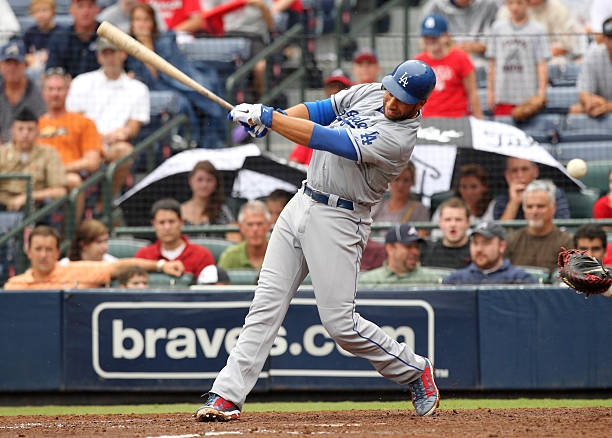bita: (98, 21, 238, 114)
